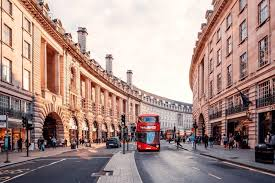bus: (136, 113, 162, 152)
